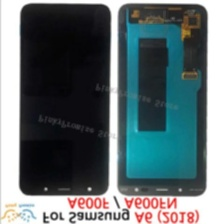phone: (14, 1, 114, 198), (113, 1, 210, 198)
